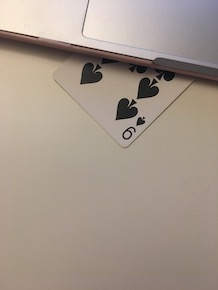NineOfSpades: (42, 39, 202, 149)
